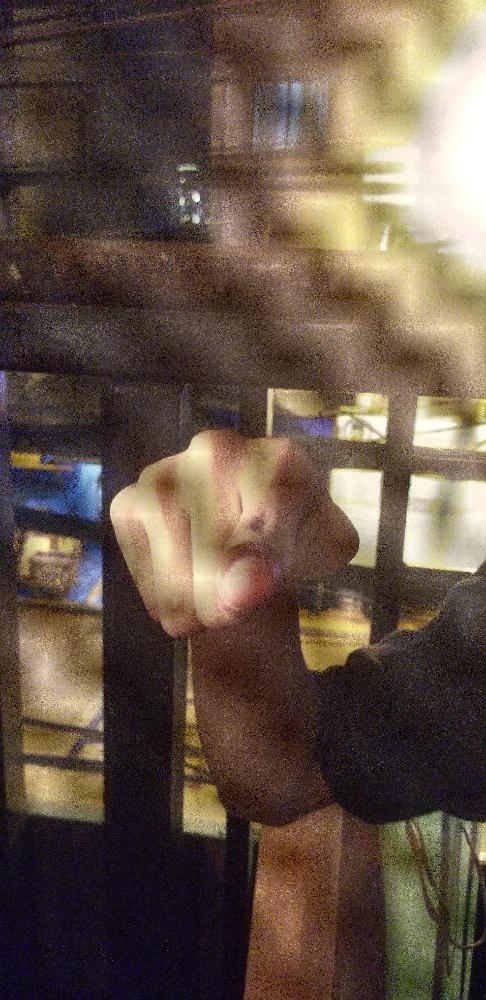z: (105, 425, 360, 635)
